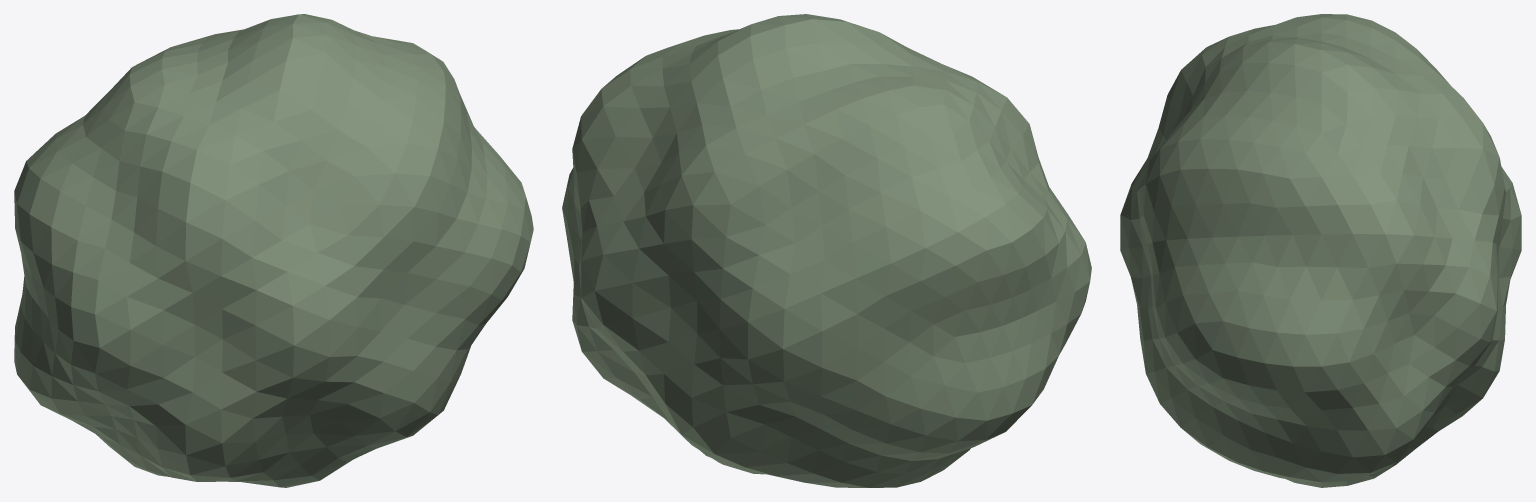
The model's file is Bana_Mossy_Boulder.glb.
The picture shows the model from 3 angles, left to right: view 1: azimuth 30°, elevation 25°; view 2: azimuth 150°, elevation 25°; view 3: azimuth 270°, elevation 25°; orthographic projection. The views are drawn at different scales.
Visible parts, largest first — view 1: world; view 2: world; view 3: world.
Part boxes in pixels (x1,y1,x2,y2): world: (14,14,533,487); world: (562,14,1091,487); world: (1120,14,1521,487).
Size of the model in its own units: 3.06 by 2.72 by 2.3.
